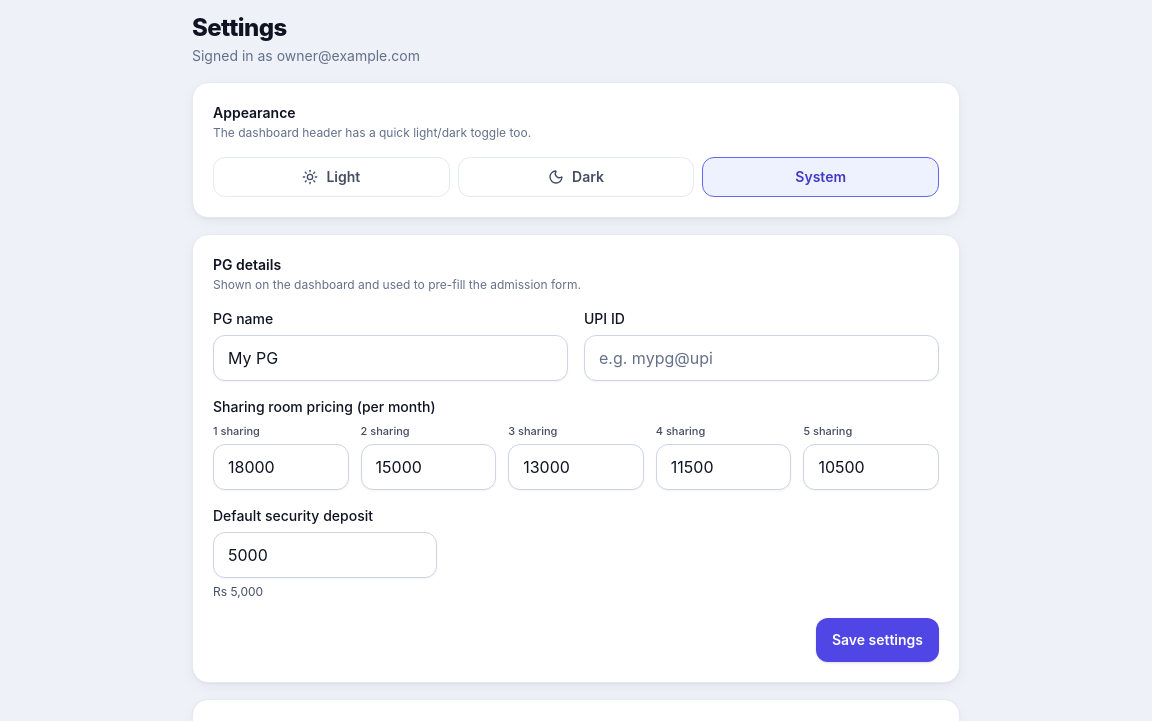
Test case: Settings › saves the PG name and prices
The image size is (1152, 721).
Replace the text in the field labelled "PG name" with "Sunrise PG" at (390, 358), box x1=213 y1=335 x2=568 y2=381
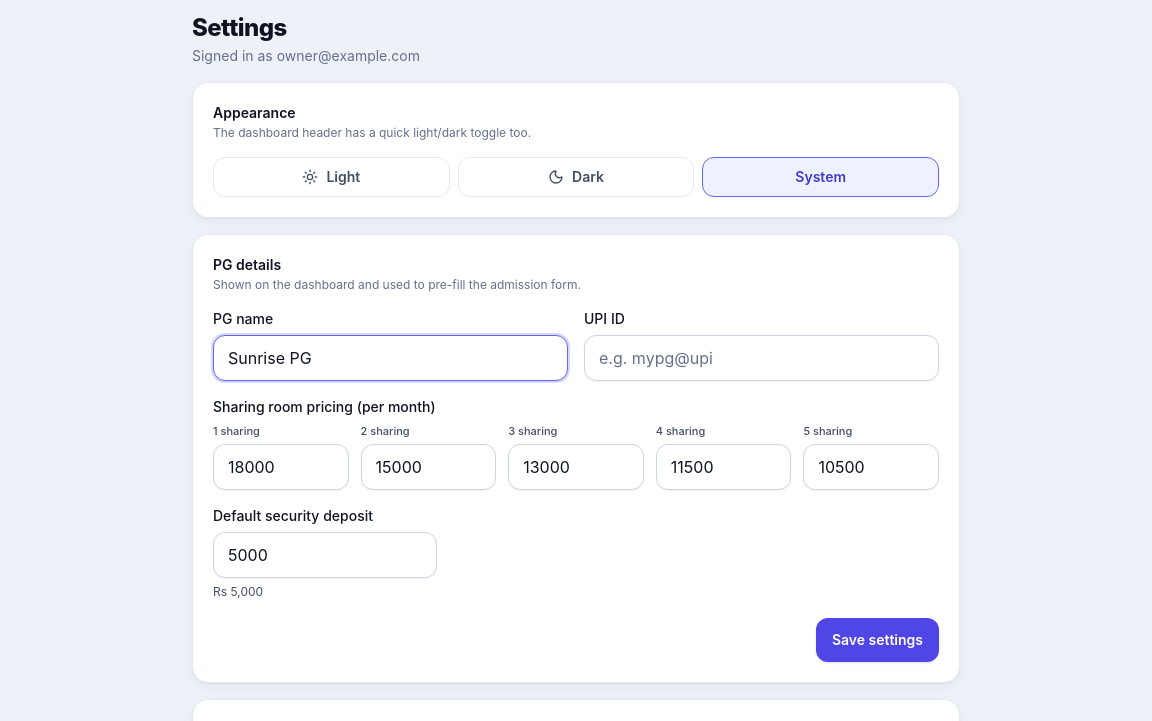
Click the button "Save settings" at (877, 640), box x1=816 y1=618 x2=939 y2=662
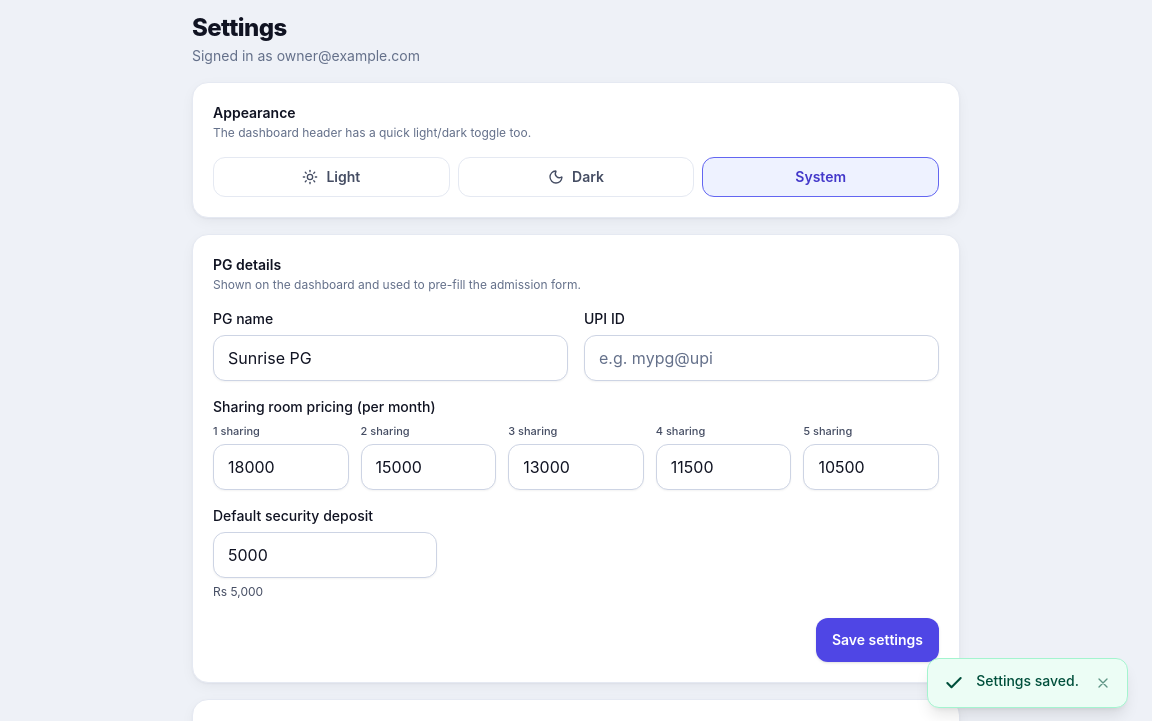
Expected: the text "Settings saved." is shown, x1=976 y1=671 x2=1079 y2=690
